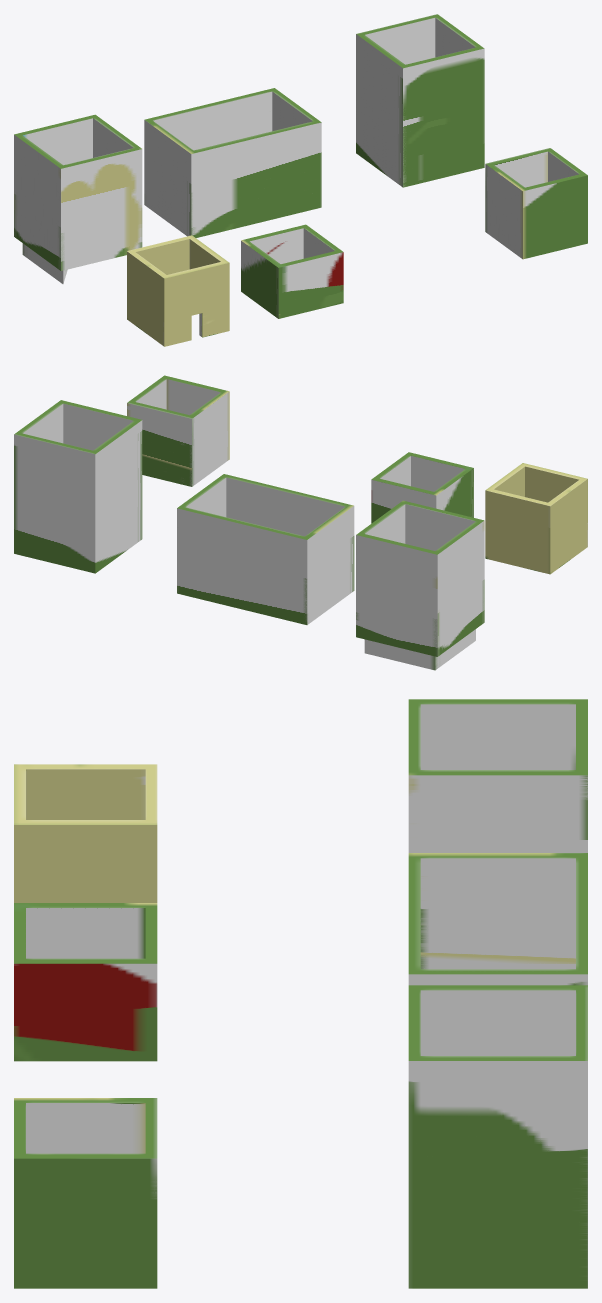
Rendered from scene4_buildings.glb.
3 views of the same model, one above another, from view 1: azimuth 30°, elevation 25°; view 2: azimuth 150°, elevation 25°; view 3: azimuth 270°, elevation 25° (orthographic). The views are drawn at different scales.
Parts seen in each view (by area): view 1: building.005, building.006, building.004, building.001, building.003, building.002; view 2: building.005, building.006, building.004, building.003, building.001, building.002; view 3: building.006, building.004, building.001, building.005, building.002, building.003.
Part boxes in pixels (bbox=[...]): building.005: bbox=[144, 88, 321, 237]; building.006: bbox=[356, 14, 484, 187]; building.004: bbox=[14, 114, 142, 283]; building.001: bbox=[485, 148, 587, 259]; building.003: bbox=[127, 235, 229, 346]; building.002: bbox=[241, 224, 343, 318]; building.005: bbox=[177, 474, 354, 624]; building.006: bbox=[14, 400, 142, 573]; building.004: bbox=[356, 500, 484, 670]; building.003: bbox=[485, 463, 587, 574]; building.001: bbox=[127, 375, 229, 486]; building.002: bbox=[371, 452, 473, 523]; building.006: bbox=[408, 985, 587, 1288]; building.004: bbox=[408, 699, 587, 852]; building.001: bbox=[14, 1098, 157, 1288]; building.005: bbox=[408, 853, 587, 985]; building.002: bbox=[14, 903, 157, 1061]; building.003: bbox=[14, 764, 157, 902].
Bounding box in the file's own units: 26 × 8 × 16.
Materials: 1 (1 with a texture image).
